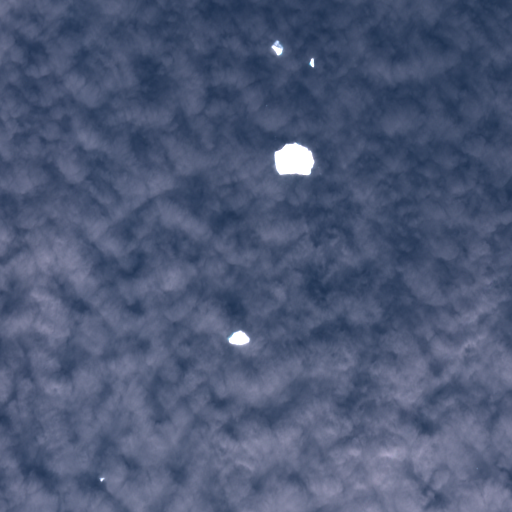Iceberg: (274, 142, 314, 175), (227, 330, 249, 346), (271, 40, 283, 55), (309, 58, 314, 67), (99, 477, 104, 481)
